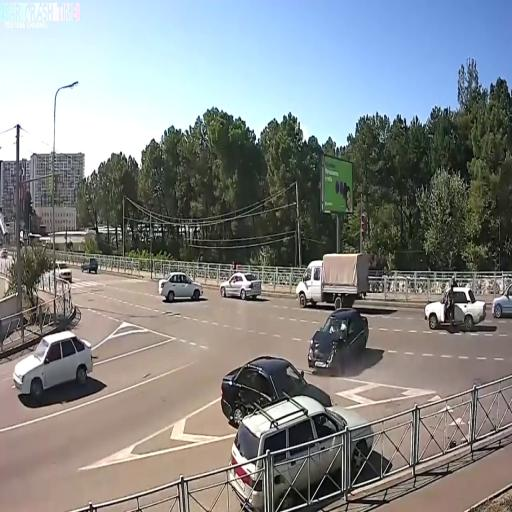小汽车: (230, 397, 372, 509), (221, 355, 333, 423), (12, 328, 94, 402), (294, 252, 372, 307), (308, 307, 370, 372), (424, 284, 488, 332), (158, 272, 203, 304), (220, 272, 264, 300), (490, 282, 512, 323), (49, 258, 73, 282), (80, 253, 99, 276)
